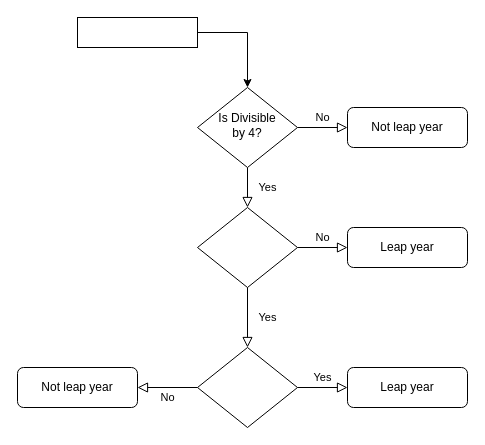
This 485x445 diagram has some shape labels left out. Here are the shapes that lost their labels. From the top down, the box of each, then its label:
(76, 16, 198, 48): Year number
(196, 206, 298, 288): Is Divisible by 100?
(196, 346, 298, 428): Is Divisible by 400?
